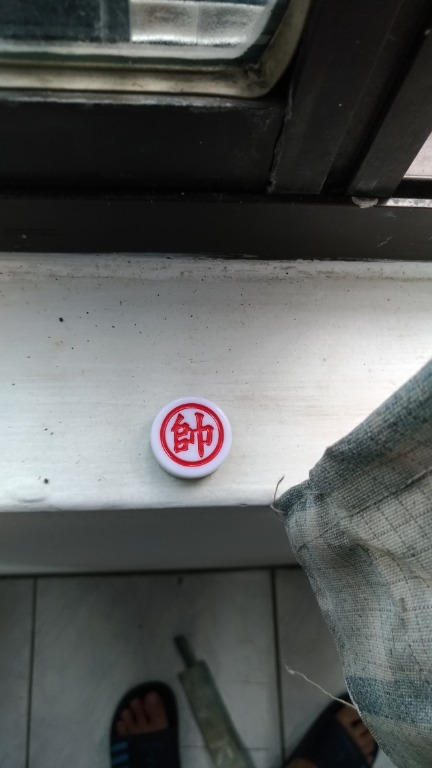r-king: (149, 395, 236, 484)
